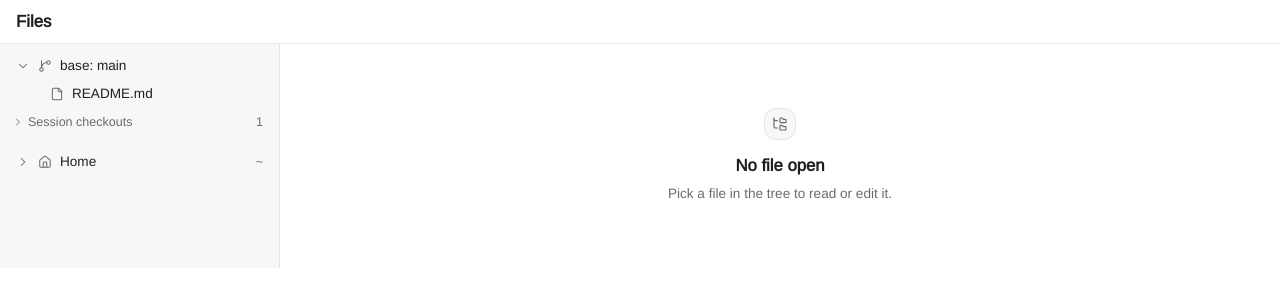
Test: Files tree › opens on the base branch with run checkouts and Home folded away
Expected: the 1st button named "README.md" is shown, x1=8 y1=80 x2=271 y2=108
Click the 2nd button named "Session checkouts" at (80, 122), box x1=8 y1=108 x2=271 y2=136
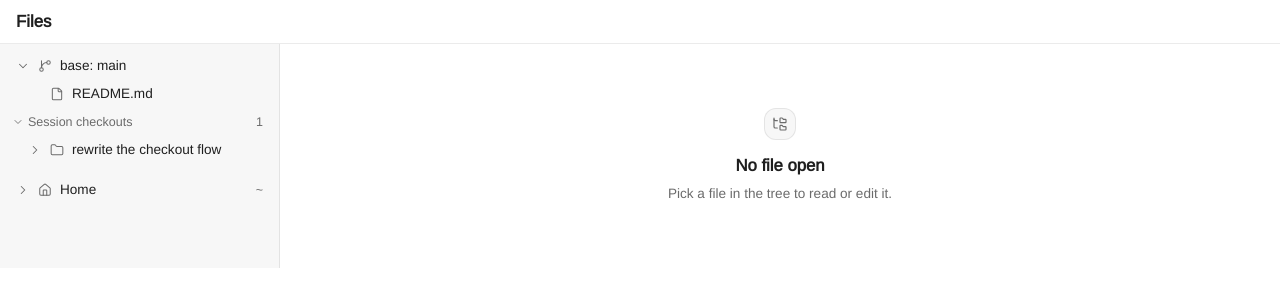
Click the button named "rewrite the checkout flow" at (140, 150), box x1=8 y1=136 x2=271 y2=164
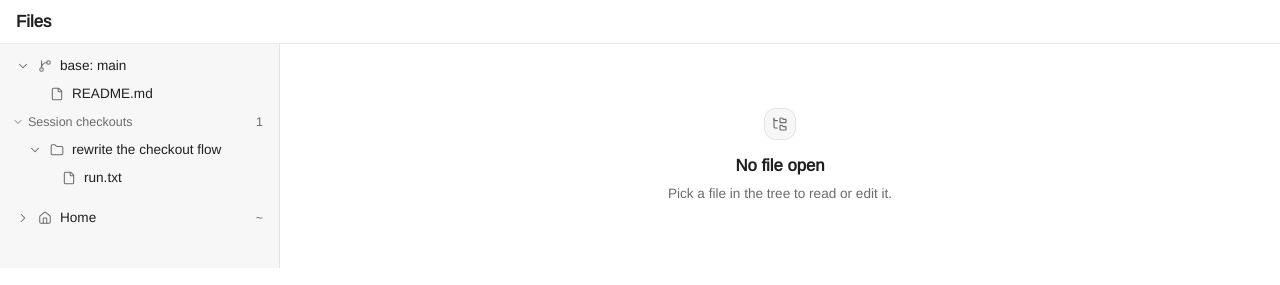
Expected: the 3rd button named "run.txt" is shown, x1=8 y1=164 x2=271 y2=192
